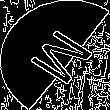M_SE: (16, 22, 94, 88)
